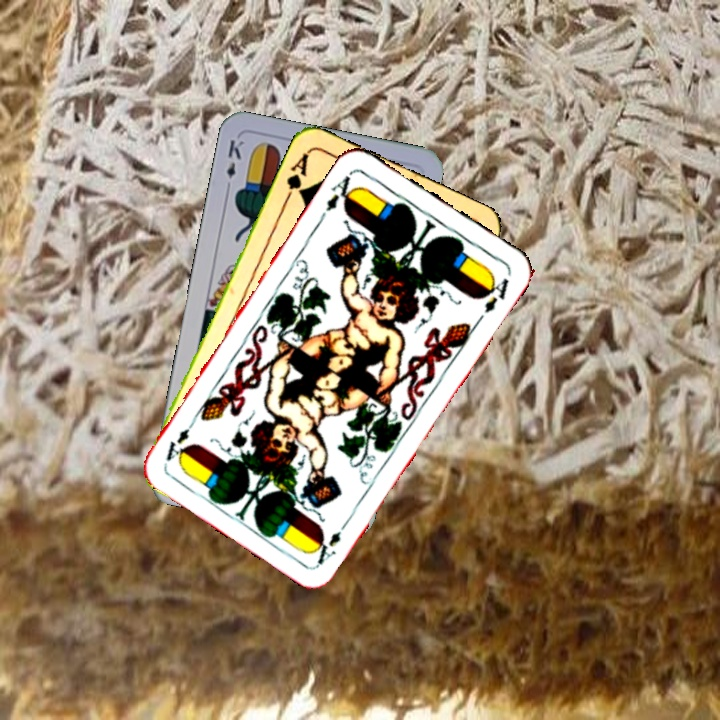EA: (308, 514, 353, 567), (322, 168, 360, 214)
EK: (221, 135, 246, 194)
GA: (281, 149, 311, 205)
